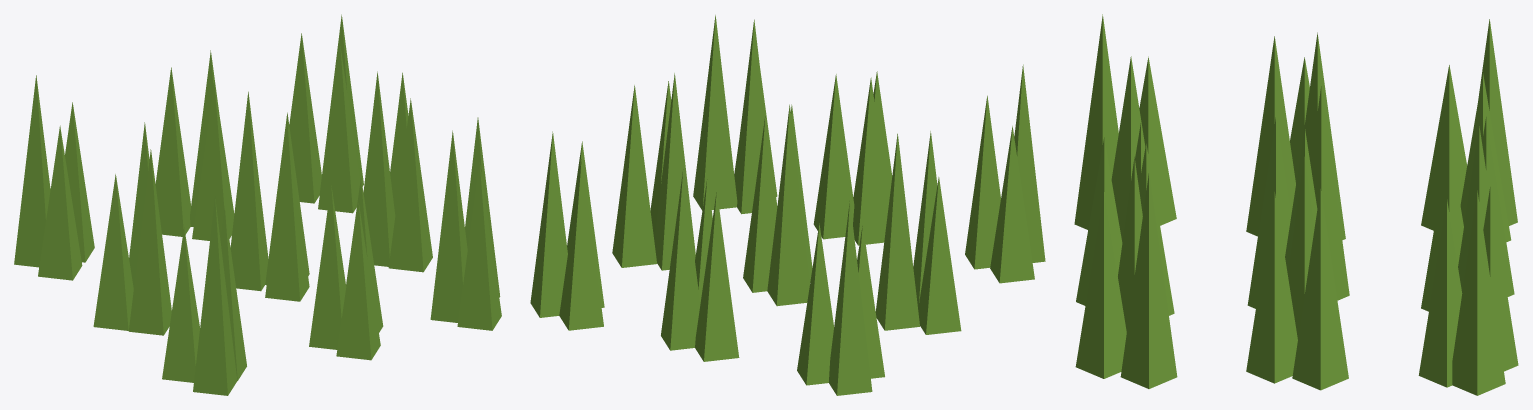
File: crop_tile.glb
The picture shows the model from 3 angles, left to right: view 1: azimuth 30°, elevation 25°; view 2: azimuth 150°, elevation 25°; view 3: azimuth 270°, elevation 25°; orthographic projection. The views are drawn at different scales.
Parts seen in each view (by area): view 1: leaves1; view 2: leaves1; view 3: leaves1.
Part boxes in pixels (x1=…): leaves1: x1=14, y1=14, x2=501, y2=395; leaves1: x1=530, y1=15, x2=1045, y2=395; leaves1: x1=1074, y1=14, x2=1518, y2=395.
Size of the model in its own units: 0.8676 by 0.4522 by 0.8611.
